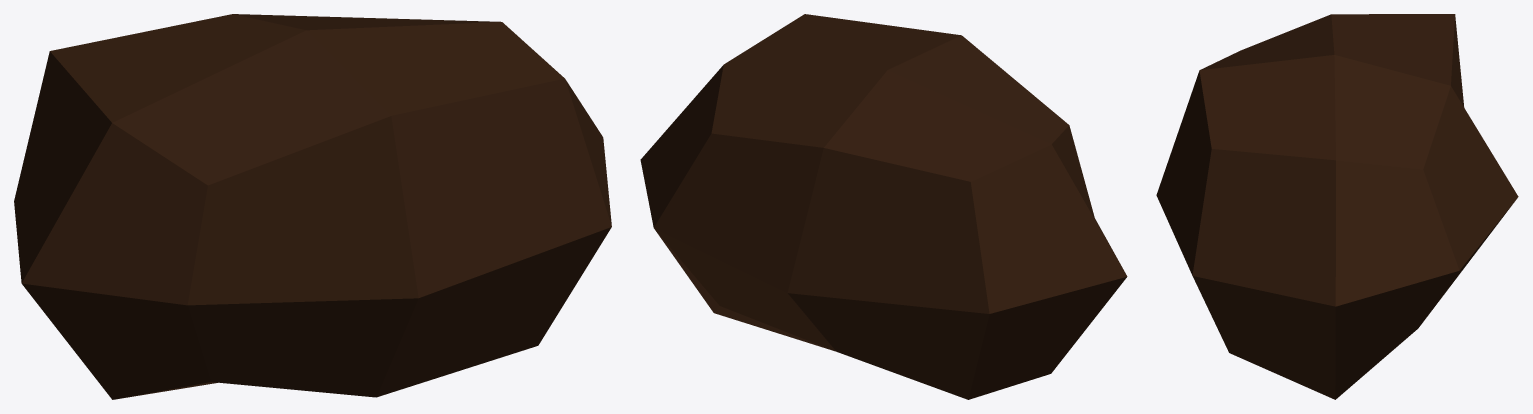
The model's file is Asteroid2Collider.fbx.
3 renders of one model, left to right at view 1: azimuth 30°, elevation 25°; view 2: azimuth 150°, elevation 25°; view 3: azimuth 270°, elevation 25°, orthographic. The views are drawn at different scales.
Parts seen in each view (by area): view 1: Asteroid2Collider; view 2: Asteroid2Collider; view 3: Asteroid2Collider.
Part boxes in pixels (x1=…): Asteroid2Collider: x1=14, y1=14, x2=611, y2=399; Asteroid2Collider: x1=640, y1=14, x2=1127, y2=399; Asteroid2Collider: x1=1156, y1=14, x2=1518, y2=399.
Bounding box in the file's own units: 2498 × 1404 × 1732.
